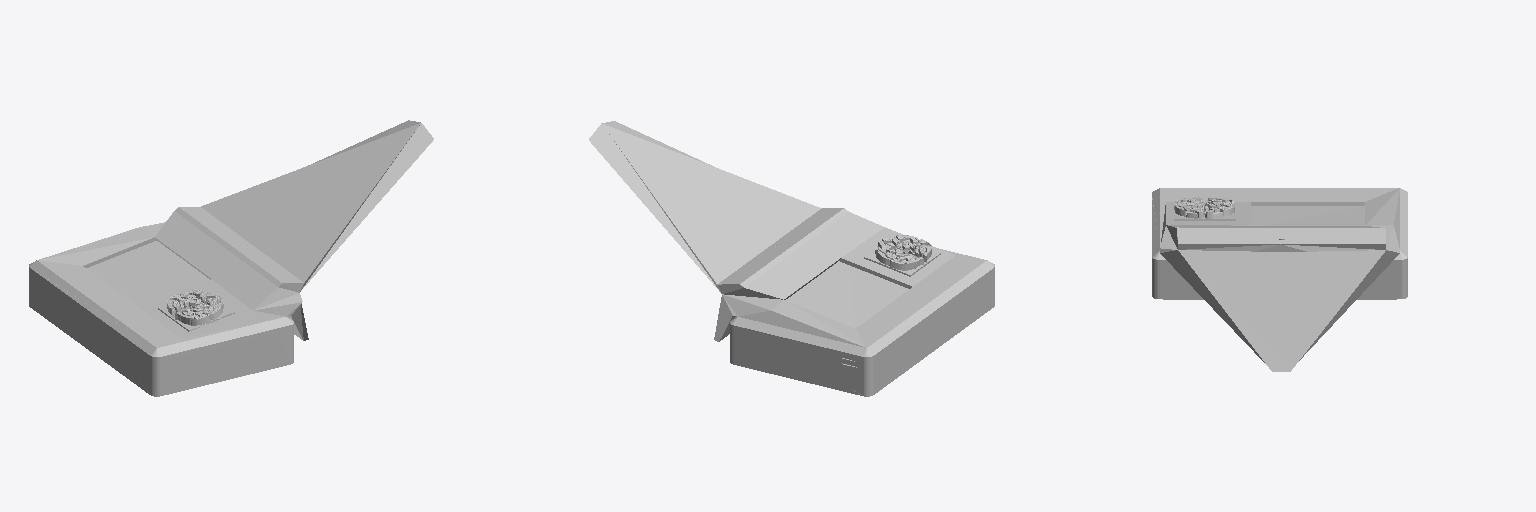
File: Holoboxv4_lid.obj
3 views of the same model, side by side, from view 1: azimuth 30°, elevation 25°; view 2: azimuth 150°, elevation 25°; view 3: azimuth 270°, elevation 25° (orthographic).
Parts seen in each view (by area): view 1: Holobox_Lid_HoloBox3-ThicBoi.2.3; view 2: Holobox_Lid_HoloBox3-ThicBoi.2.3; view 3: Holobox_Lid_HoloBox3-ThicBoi.2.3.
Part boxes in pixels (x1,y1,x2,y2): Holobox_Lid_HoloBox3-ThicBoi.2.3: (29, 120, 433, 396); Holobox_Lid_HoloBox3-ThicBoi.2.3: (589, 121, 994, 396); Holobox_Lid_HoloBox3-ThicBoi.2.3: (1152, 188, 1407, 371).
Size of the model in its own units: 232 by 123 by 155.